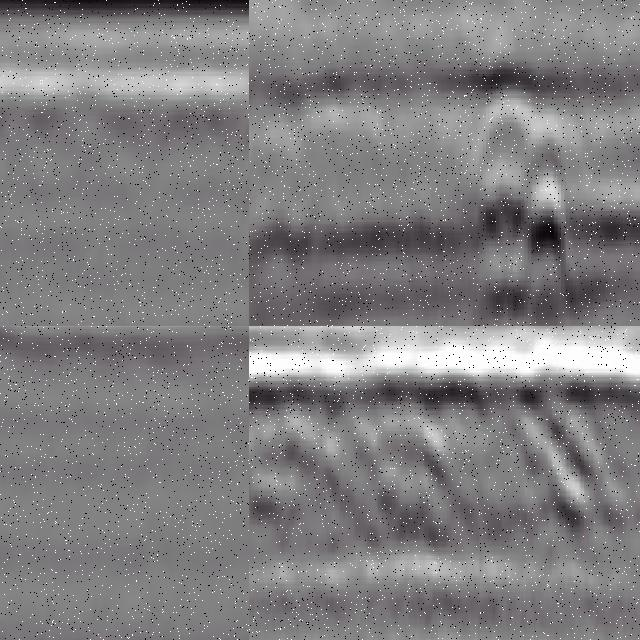loose: (250, 372, 605, 571), (466, 29, 595, 327)
